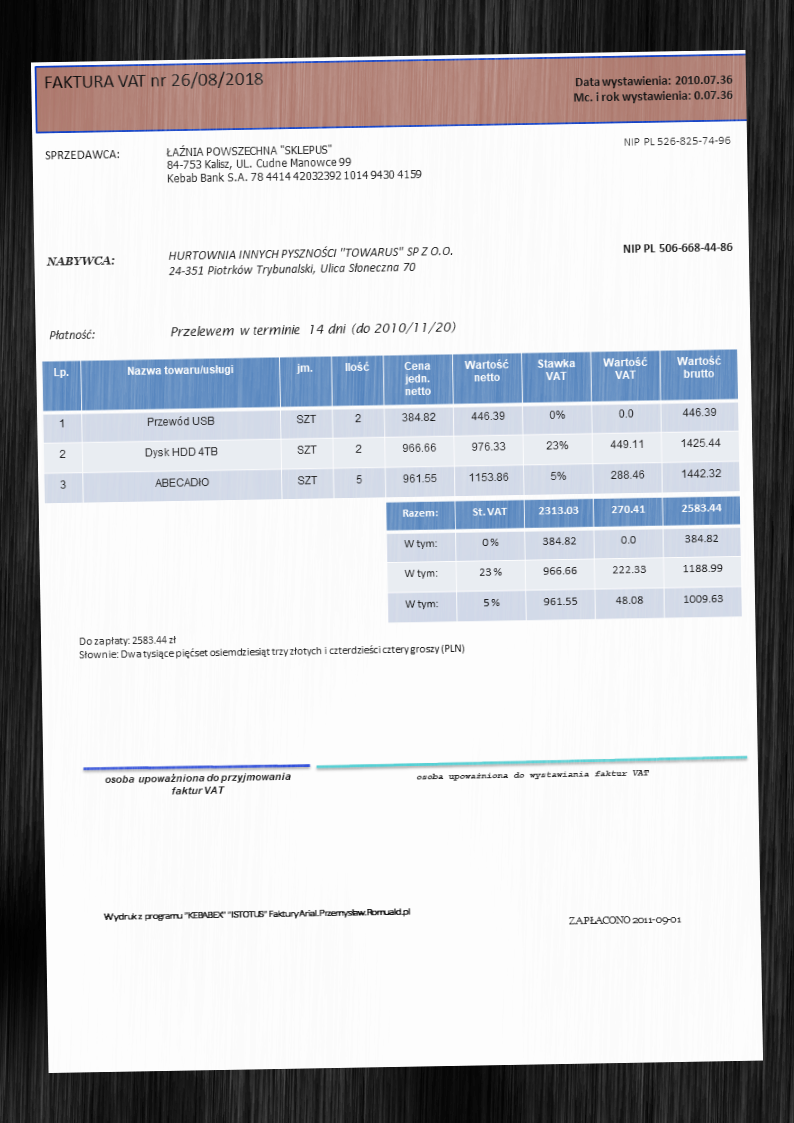Table: (41, 347, 741, 505), (384, 495, 744, 624)
TextBox: (77, 626, 467, 663), (164, 138, 425, 185), (166, 242, 455, 278), (101, 905, 413, 924), (42, 69, 265, 94), (169, 320, 459, 339), (570, 72, 736, 105), (104, 771, 295, 798), (413, 766, 652, 783), (620, 239, 735, 257), (566, 912, 684, 928), (622, 133, 734, 149), (42, 145, 122, 161), (44, 253, 118, 268), (46, 327, 96, 341)
